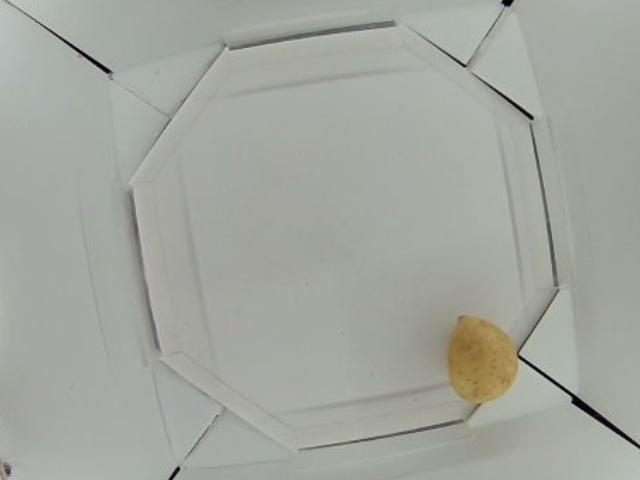Potato: (449, 314, 518, 403)
